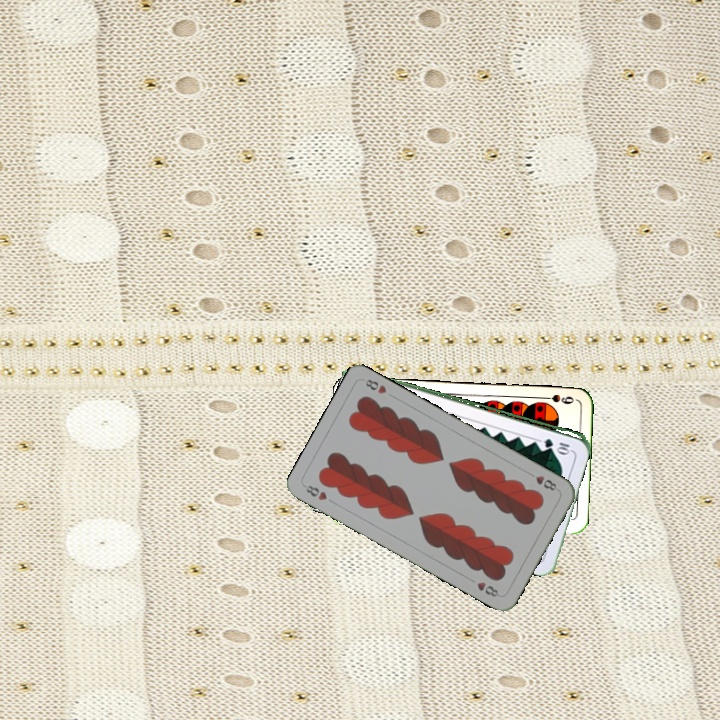G10: (539, 434, 574, 454)
H8: (524, 468, 559, 493), (300, 481, 330, 503)
S9: (536, 390, 576, 408)
